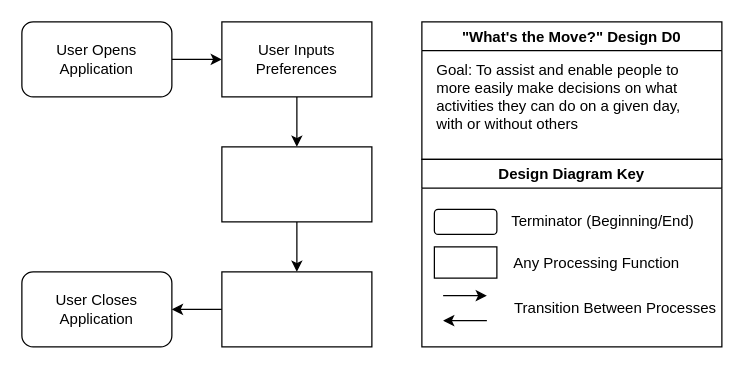
This 744x369 diagram has some shape labels left out. Here are the shapes that lost their labels. From the top down, the centre of each, then its label:
the point at 296,184: Application Processes Preferences
the point at 296,309: Application Outputs Activities
